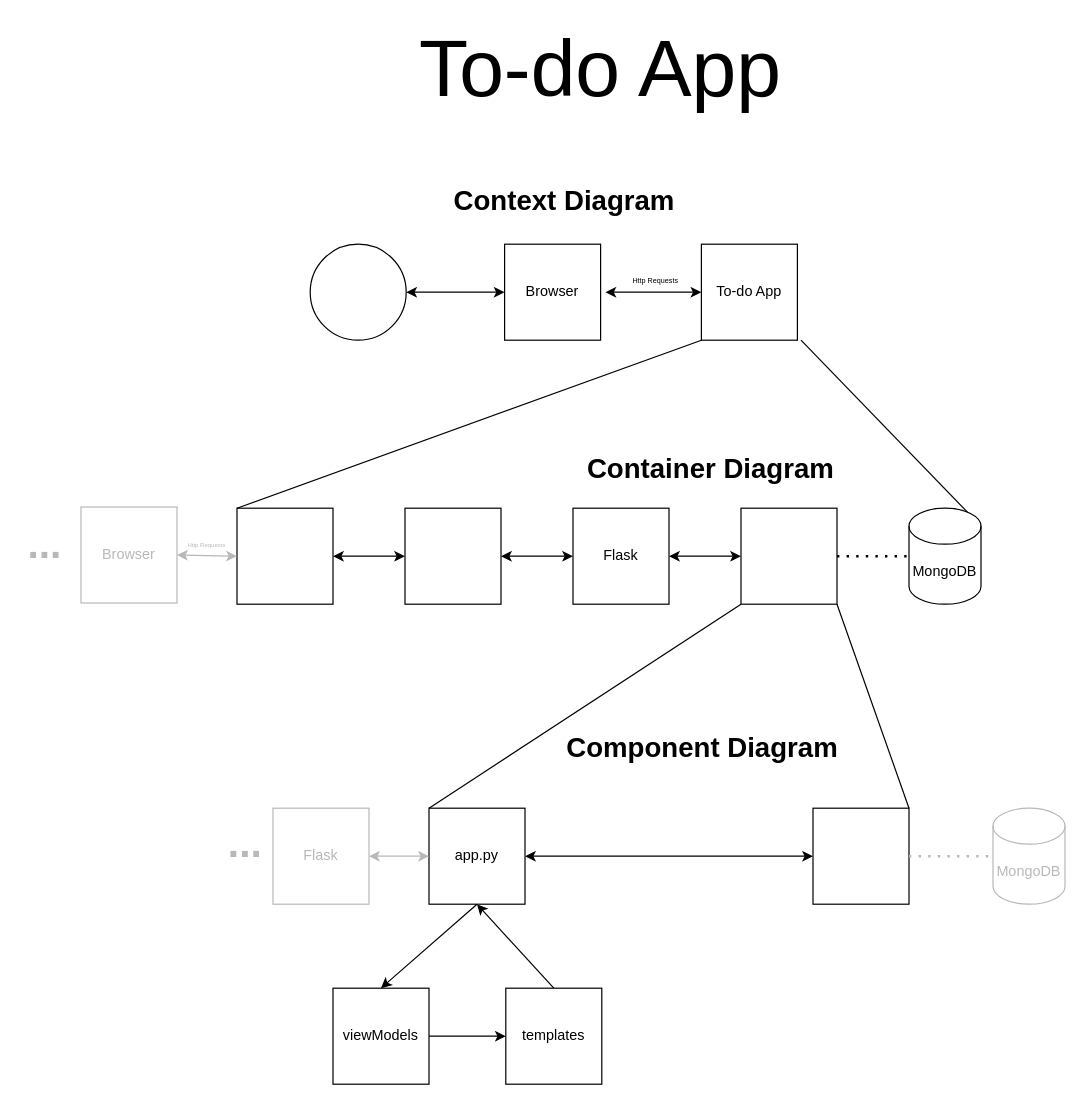
This 1086x1105 diagram has some shape labels left out. The box of each missing label's shape, as (x1, y1, x2, y2) in pixels:
Application code: (740, 507, 837, 604)
GUnicorn: (404, 507, 501, 604)
MongoApi.py: (812, 807, 909, 904)
User: (309, 243, 406, 340)
Web Server: (236, 507, 333, 604)
